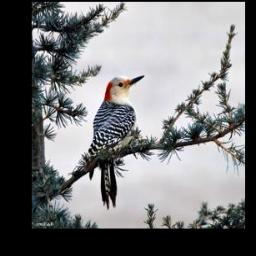Woodpecker: (88, 74, 145, 208)
